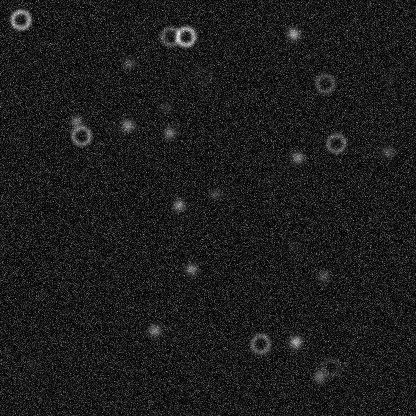Ring: (191, 64, 215, 88), (248, 331, 272, 355), (318, 354, 342, 378), (8, 7, 32, 31), (324, 131, 348, 155), (158, 24, 182, 48), (69, 123, 93, 147), (312, 71, 336, 95), (173, 24, 197, 48)
Spot: (158, 98, 174, 114), (289, 149, 305, 165), (311, 368, 327, 384), (22, 356, 38, 372), (380, 72, 396, 88), (170, 197, 186, 213), (287, 333, 303, 349), (285, 25, 301, 41), (120, 55, 136, 71), (379, 143, 395, 159), (146, 322, 162, 338), (315, 267, 331, 283), (207, 185, 223, 201), (119, 117, 135, 133), (283, 237, 299, 253), (67, 113, 83, 129), (161, 125, 177, 141), (183, 261, 199, 277)
